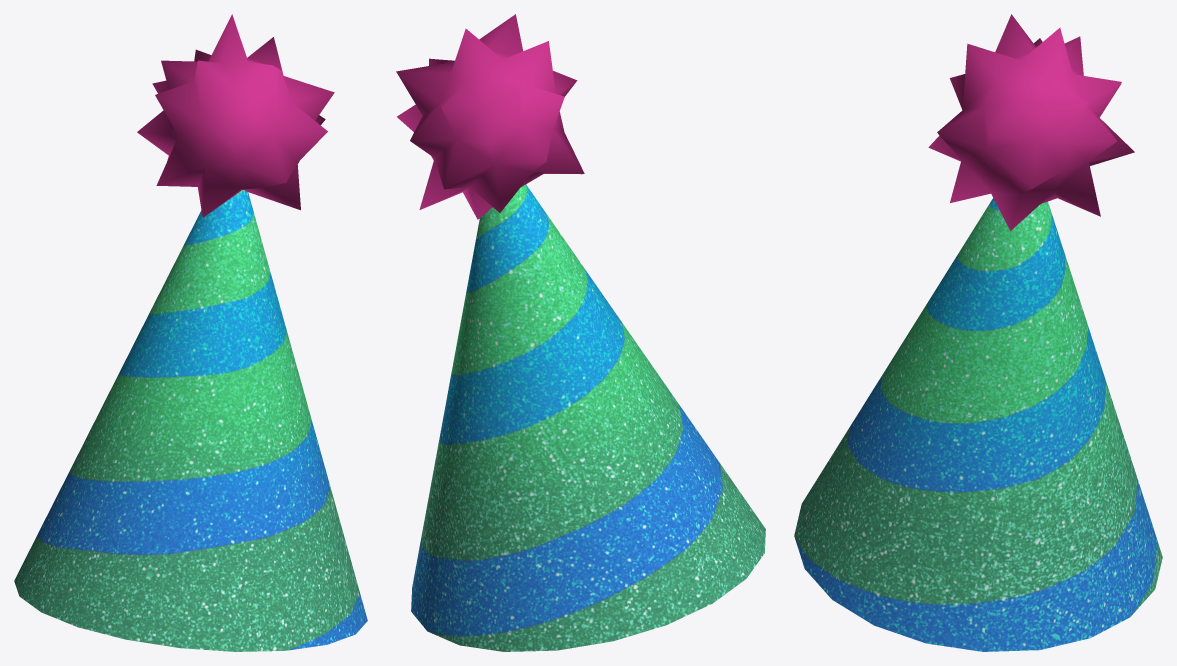
The model's file is hat_pm0202_00_sonans_newyers2020.fbx.
The picture shows the model from 3 angles, left to right: view 1: azimuth 30°, elevation 25°; view 2: azimuth 150°, elevation 25°; view 3: azimuth 270°, elevation 25°; orthographic projection. The views are drawn at different scales.
Parts seen in each view (by area): view 1: hat_pm0202_00_sonans_newyers2020; view 2: hat_pm0202_00_sonans_newyers2020; view 3: hat_pm0202_00_sonans_newyers2020.
Part boxes in pixels (<box>): hat_pm0202_00_sonans_newyers2020: <box>14,14,367,651</box>; hat_pm0202_00_sonans_newyers2020: <box>396,14,765,651</box>; hat_pm0202_00_sonans_newyers2020: <box>794,14,1162,651</box>.
Size of the model in its own units: 0.3864 by 0.6702 by 0.3787.
Materials: 1 (1 with a texture image).
